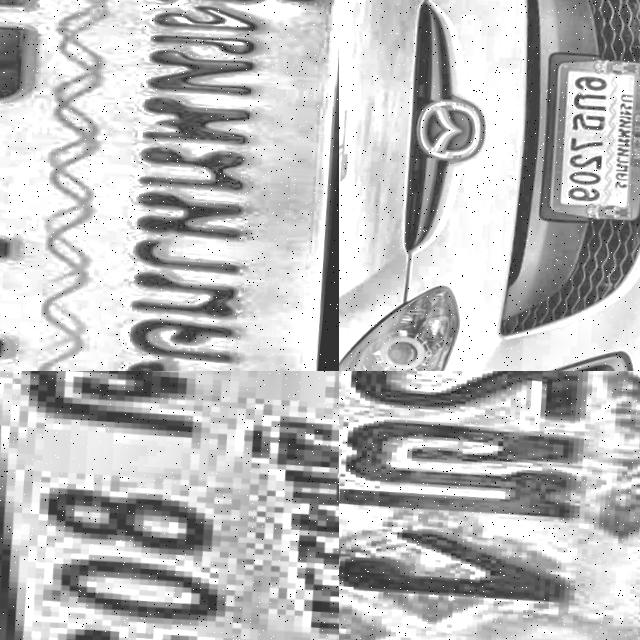license-plate: (0, 0, 339, 371), (0, 371, 339, 640), (339, 371, 640, 640), (543, 36, 640, 217)
